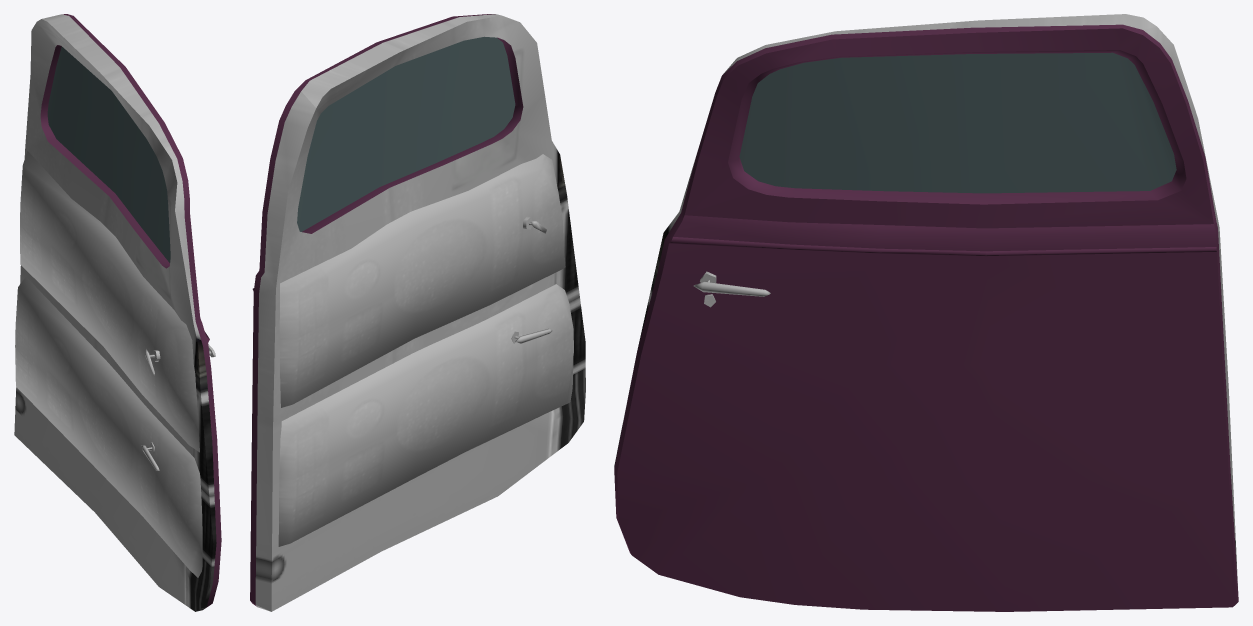
The model's file is DoorR.obj.
3 views of the same model, side by side, from view 1: azimuth 30°, elevation 25°; view 2: azimuth 150°, elevation 25°; view 3: azimuth 270°, elevation 25° (orthographic). The views are drawn at different scales.
Visible parts, largest first — view 1: door_left; view 2: door_left; view 3: door_left.
Part boxes in pixels (bbox=[...]): door_left: bbox=[14, 14, 221, 611]; door_left: bbox=[250, 14, 585, 611]; door_left: bbox=[614, 14, 1238, 611].
Bounding box in the file's own units: 3.7 × 19.81 × 18.76.
